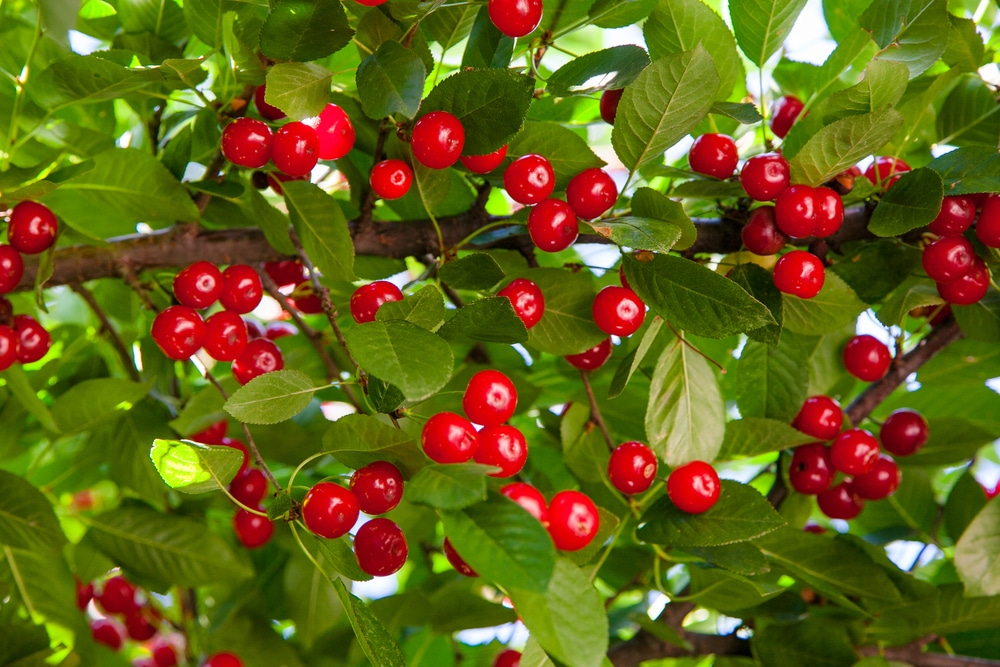Cherry: (298, 477, 361, 543), (418, 408, 481, 468), (2, 196, 63, 256), (459, 367, 516, 430), (349, 518, 409, 577), (544, 488, 600, 551), (147, 303, 205, 363), (666, 457, 723, 518), (306, 100, 358, 165), (604, 438, 661, 497), (410, 110, 465, 168), (350, 458, 403, 517), (219, 114, 274, 170), (838, 331, 894, 386), (824, 424, 882, 477), (270, 119, 322, 178), (768, 250, 827, 302), (587, 283, 646, 335), (527, 199, 581, 254), (480, 0, 548, 43), (919, 231, 973, 285), (780, 441, 834, 495), (738, 148, 793, 201), (774, 182, 824, 240), (565, 166, 618, 220), (230, 334, 285, 386), (480, 421, 530, 478), (686, 128, 737, 183), (503, 151, 553, 207), (852, 451, 903, 504), (175, 258, 224, 313), (497, 274, 545, 330), (498, 478, 550, 528), (202, 310, 250, 364), (350, 279, 405, 326), (940, 254, 990, 305), (792, 393, 845, 441), (878, 409, 928, 458), (456, 132, 510, 176), (738, 207, 785, 256), (222, 263, 265, 316), (366, 157, 417, 201), (816, 479, 865, 524), (440, 531, 483, 582), (232, 503, 276, 552), (929, 189, 976, 234), (17, 309, 55, 364), (862, 153, 914, 192), (224, 463, 270, 507), (809, 182, 845, 237), (766, 92, 808, 138), (568, 333, 615, 374), (588, 83, 630, 125), (250, 81, 292, 121), (975, 187, 1000, 252), (190, 413, 231, 449), (0, 242, 25, 296), (487, 643, 531, 667), (0, 319, 17, 373), (203, 646, 245, 667)
